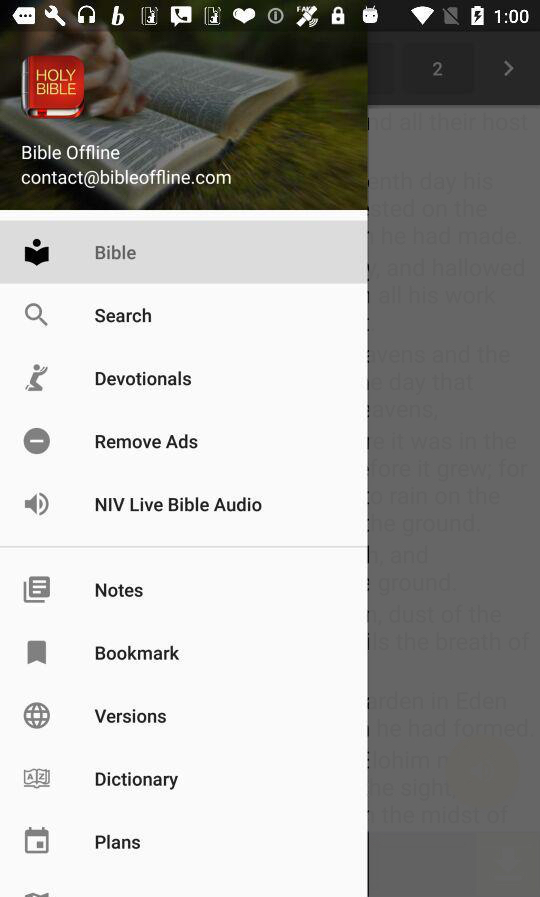Drawer: (1, 33, 367, 897)
Icon: (23, 575, 52, 604), (23, 428, 52, 455), (25, 826, 51, 854), (25, 239, 51, 267), (25, 303, 50, 328), (24, 768, 52, 789), (27, 640, 48, 665)
Image: (1, 33, 367, 211), (21, 55, 87, 121), (24, 701, 52, 730), (25, 364, 49, 393), (25, 492, 51, 517)
Text: (22, 169, 232, 190), (96, 497, 263, 513), (96, 771, 179, 791), (96, 370, 193, 387), (96, 434, 199, 450), (22, 145, 121, 161), (96, 645, 181, 662), (95, 708, 168, 724), (95, 306, 153, 324), (94, 243, 138, 263), (95, 582, 144, 598), (96, 834, 142, 850)
UpperTaskBar: (1, 1, 540, 33)
